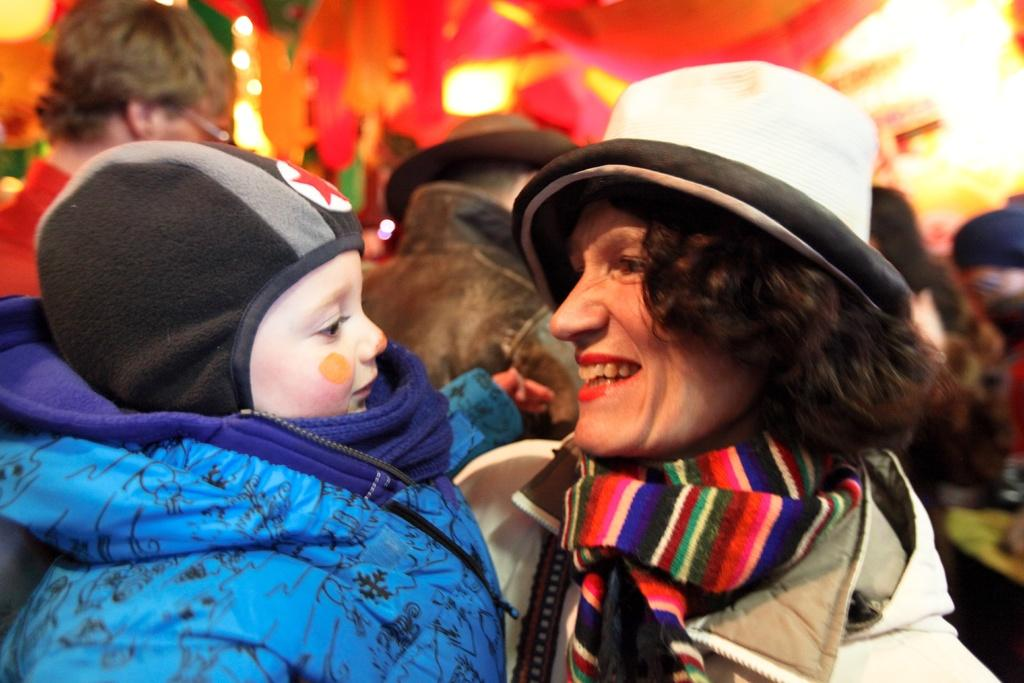Hat: (516, 56, 918, 326), (382, 115, 578, 226)
